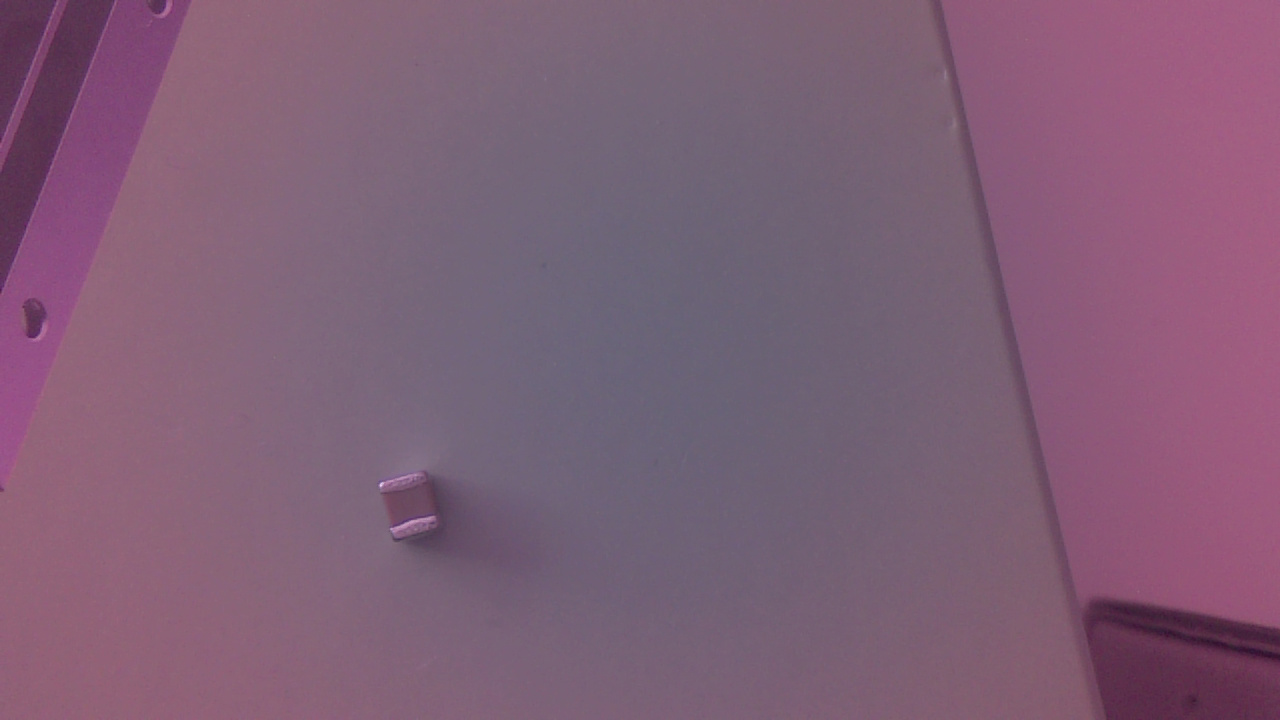Condensator: (382, 473, 454, 548)
